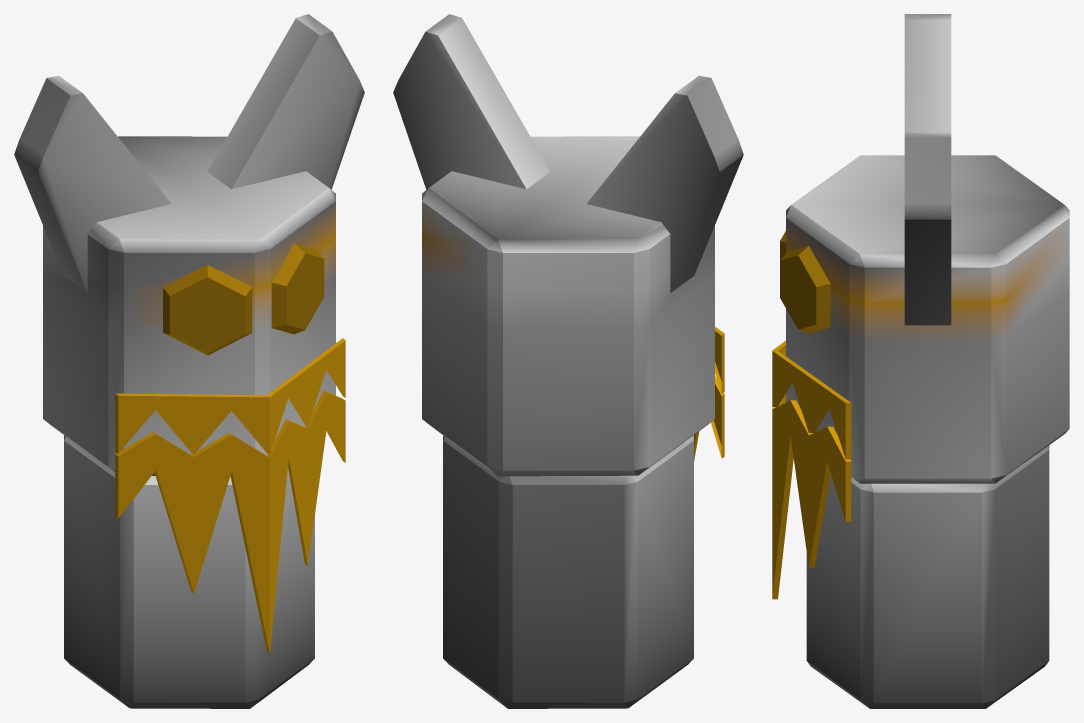
File: Builder_Yellow.FBX
3 views of the same model, side by side, from view 1: azimuth 30°, elevation 25°; view 2: azimuth 150°, elevation 25°; view 3: azimuth 270°, elevation 25° (orthographic). The views are drawn at different scales.
Parts seen in each view (by area): view 1: Builder_Yellow; view 2: Builder_Yellow; view 3: Builder_Yellow.
Boxes of the visible parts, x1,y1,x2,y2 form: Builder_Yellow: [14, 14, 364, 708]; Builder_Yellow: [393, 14, 743, 708]; Builder_Yellow: [772, 14, 1069, 708].
Size of the model in its own units: 144 by 258 by 118.
